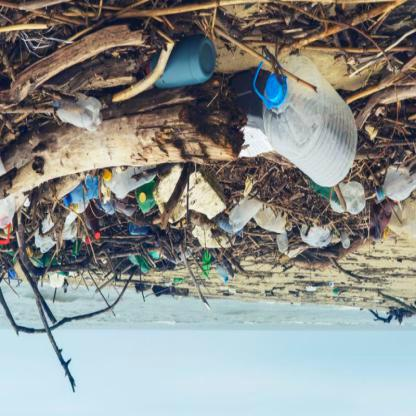Plastic: (260, 56, 360, 191), (376, 166, 415, 204), (227, 197, 260, 235), (65, 176, 102, 209)
